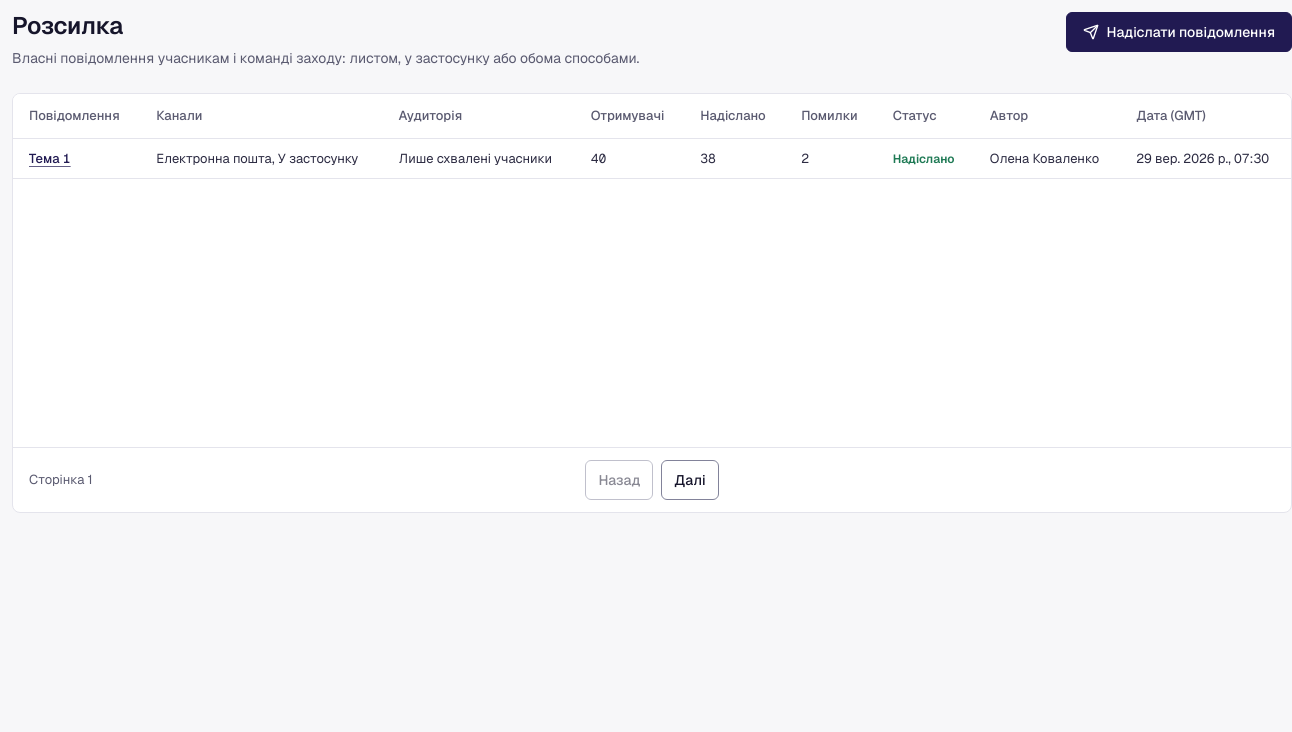
Test: Історія розсилок › walks the pages by cursor
Expected: the link "Тема 1" is shown, 29,150 -> 71,167
Click the button "Далі": click(690, 480) 661,460 -> 719,500
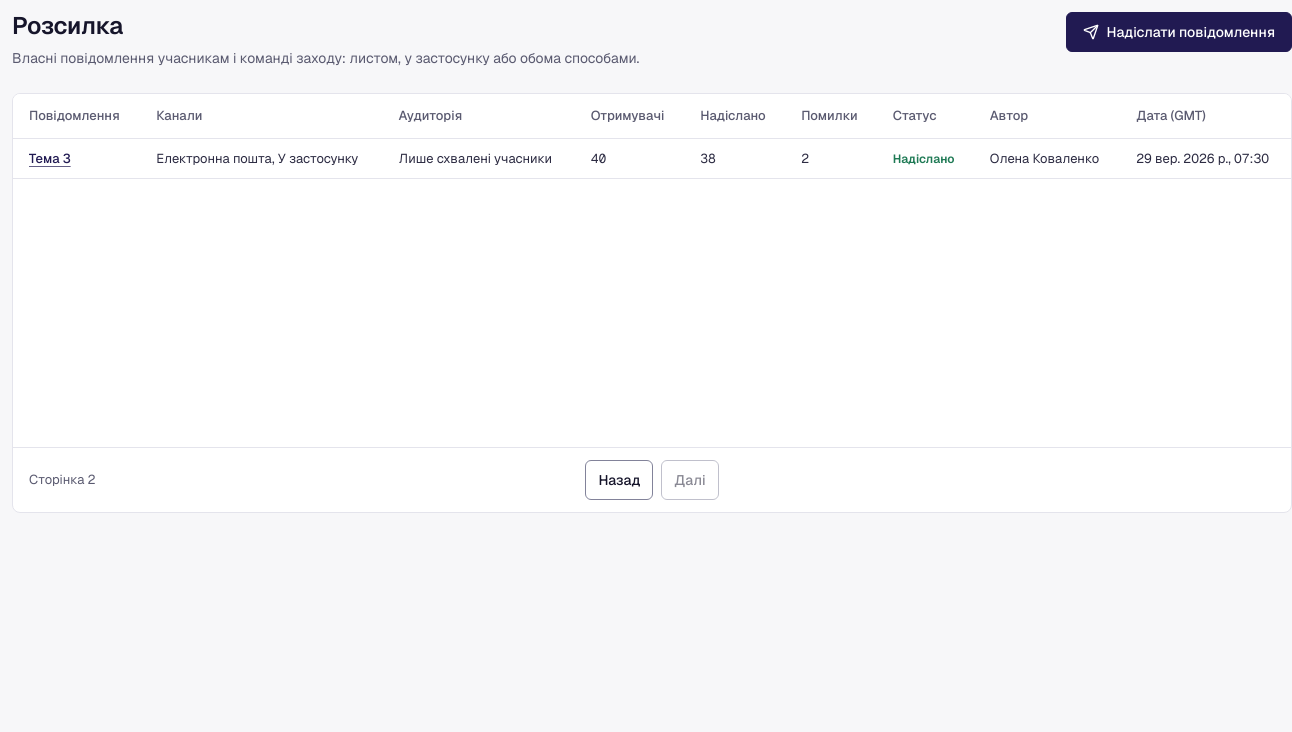
Expected: the link "Тема 3" is shown, 29,150 -> 71,167
